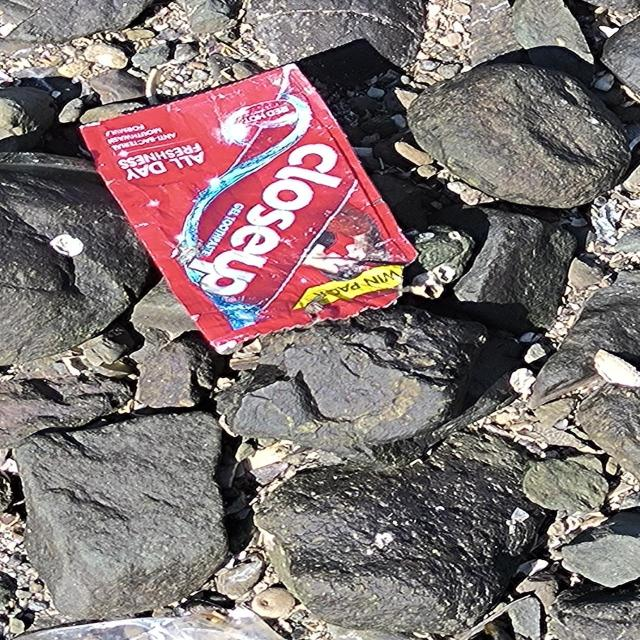plastic_waste: (79, 65, 425, 348)
